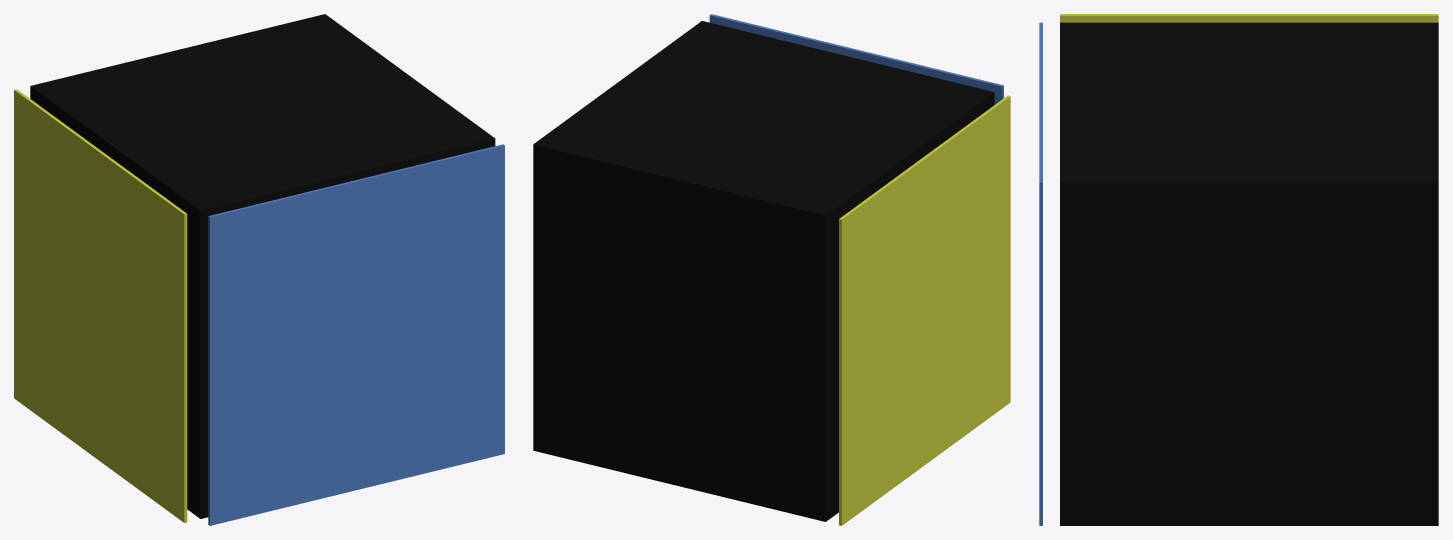
3 renders of one model, left to right at view 1: azimuth 30°, elevation 25°; view 2: azimuth 150°, elevation 25°; view 3: azimuth 270°, elevation 25°, orthographic. The views are drawn at different scales.
Visible parts, largest first — view 1: blue-3, Cube, yellow-1; view 2: Cube, yellow-1, blue-3; view 3: Cube, yellow-1, blue-3.
Boxes of the visible parts, x1,y1,x2,y2 form: blue-3: (208, 144, 504, 525); Cube: (30, 14, 495, 518); yellow-1: (14, 89, 187, 522); Cube: (533, 21, 994, 521); yellow-1: (839, 95, 1010, 525); blue-3: (709, 14, 1003, 104); Cube: (1060, 22, 1438, 525); yellow-1: (1060, 14, 1438, 22); blue-3: (1039, 22, 1042, 525).
Bounding box in the file's own units: 2.11 × 2 × 2.11.
